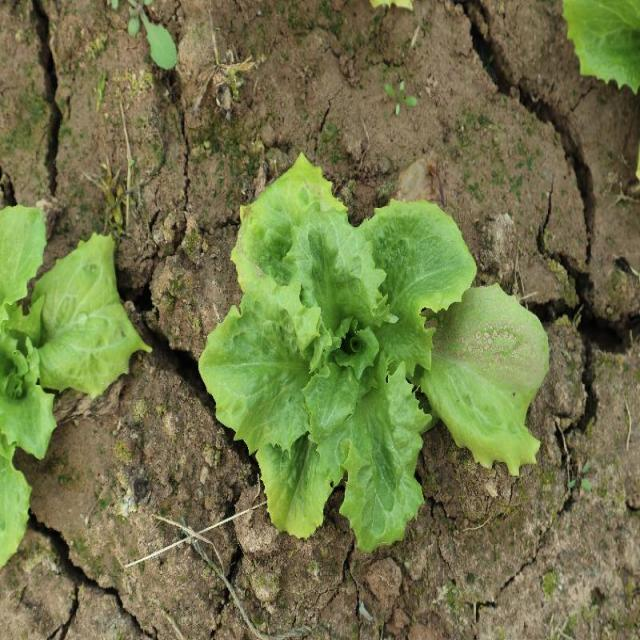crop: (199, 164, 546, 555)
